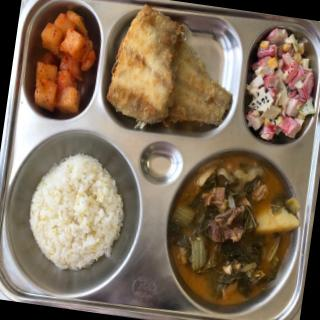Nasi: (24, 150, 133, 280)
